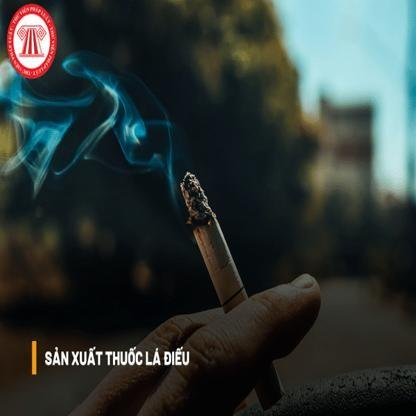trash: (173, 164, 282, 410)
